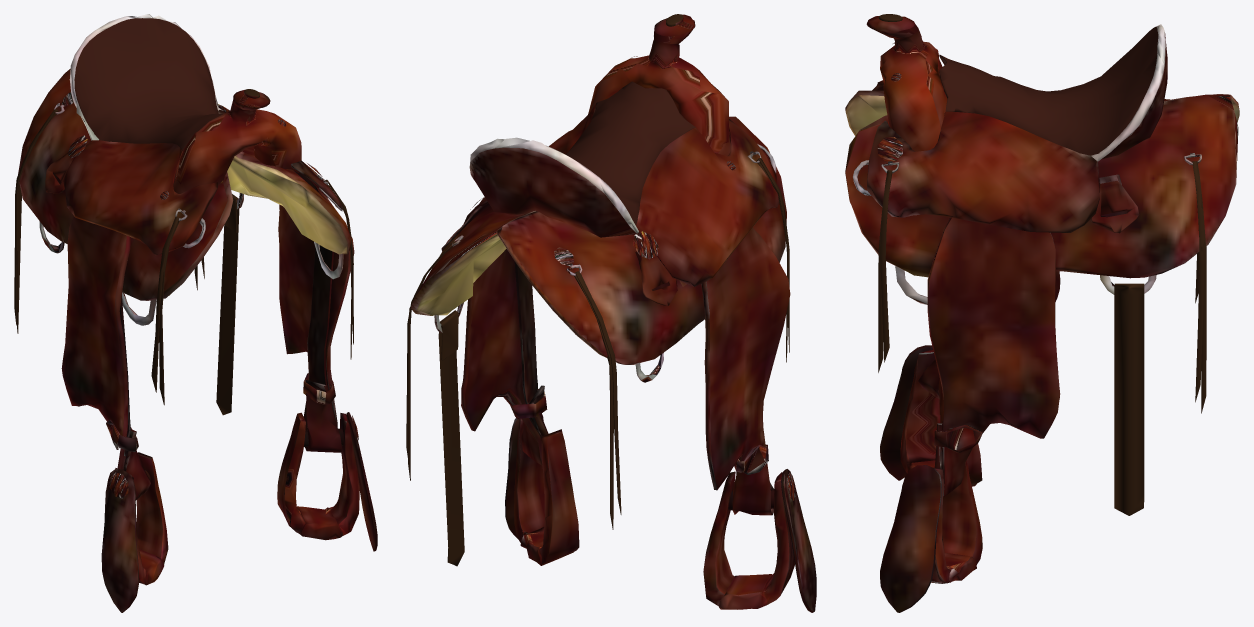
The model's file is western-saddle.glb.
3 views of the same model, side by side, from view 1: azimuth 30°, elevation 25°; view 2: azimuth 150°, elevation 25°; view 3: azimuth 270°, elevation 25° (orthographic). The views are drawn at different scales.
Parts seen in each view (by area): view 1: saddle; view 2: saddle; view 3: saddle.
Part boxes in pixels (box(x1,y1,x2,y2)): saddle: box(14, 14, 377, 612); saddle: box(406, 14, 816, 612); saddle: box(845, 14, 1239, 612).
Size of the model in its own units: 0.5623 by 1.01 by 0.6779.
Materials: 1 (1 with a texture image).
